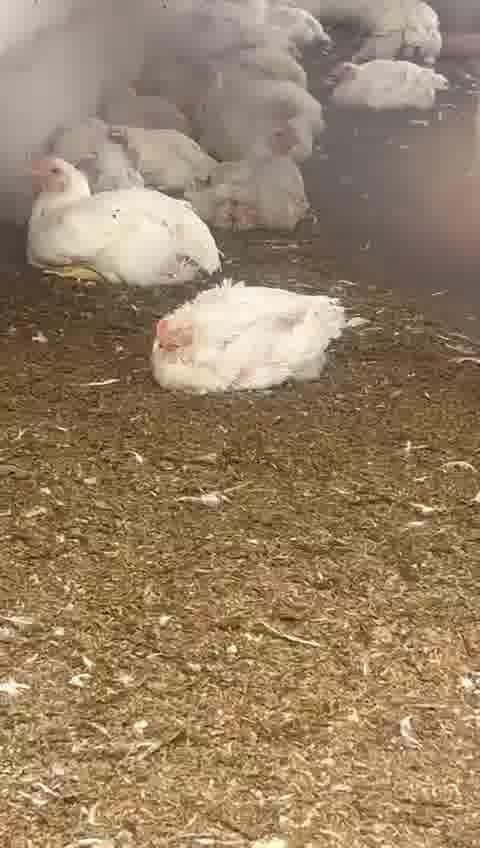AbNormal: (154, 284, 346, 395), (202, 119, 303, 229), (326, 58, 450, 113)
Normal: (23, 153, 221, 282)
